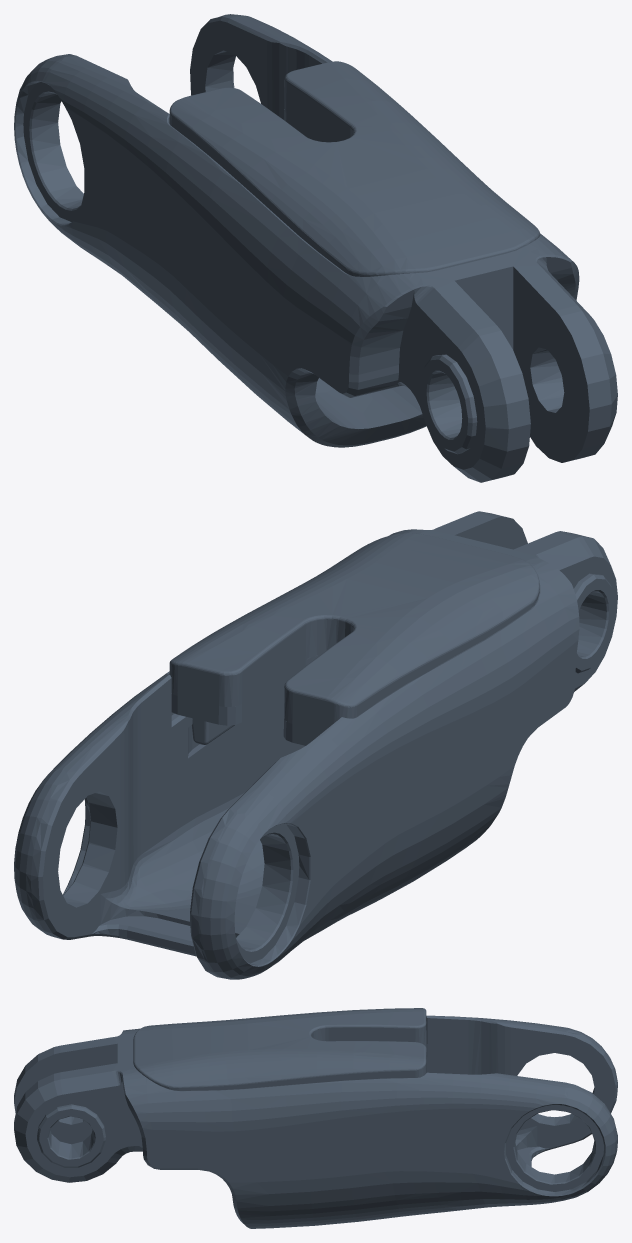
Rendered from R_middle_prox.dae.
The picture shows the model from 3 angles, top to bottom: view 1: azimuth 30°, elevation 25°; view 2: azimuth 150°, elevation 25°; view 3: azimuth 270°, elevation 25°; orthographic projection. The views are drawn at different scales.
Visible parts, largest first — view 1: R_middle_prox; view 2: R_middle_prox; view 3: R_middle_prox.
Part boxes in pixels (left/top/right/bottom): R_middle_prox: left=14, top=14, right=617, bottom=482; R_middle_prox: left=14, top=511, right=617, bottom=979; R_middle_prox: left=14, top=1008, right=617, bottom=1228.
Size of the model in its own units: 0.0154 by 0.0525 by 0.0177.
